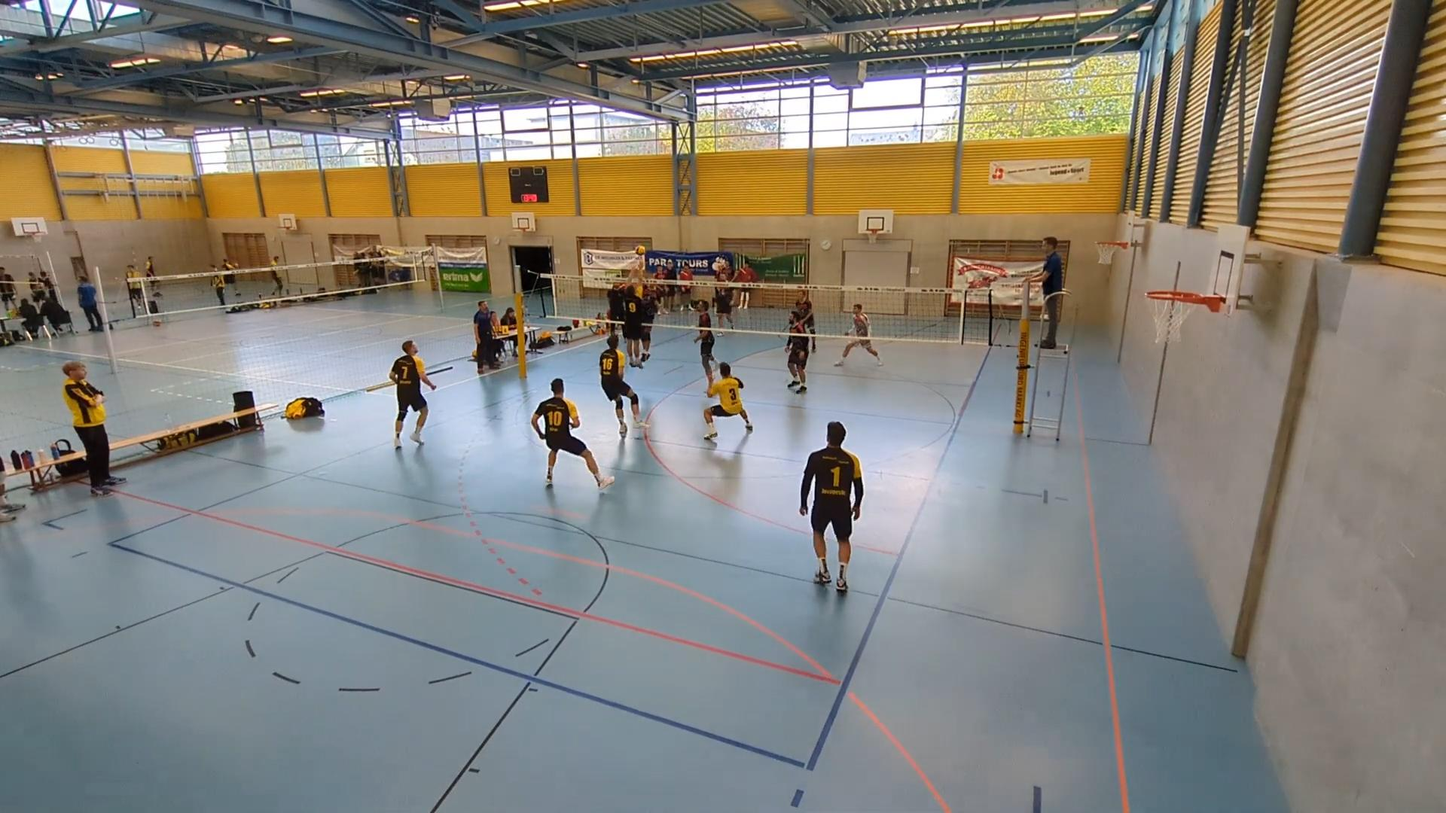Attack: (633, 243, 668, 369)
Block: (610, 267, 661, 371)
Player: (799, 422, 863, 592), (531, 379, 614, 488), (599, 335, 648, 436), (389, 340, 435, 447), (703, 363, 753, 440), (834, 303, 883, 366), (786, 312, 810, 393), (694, 301, 714, 385), (793, 288, 816, 350)
